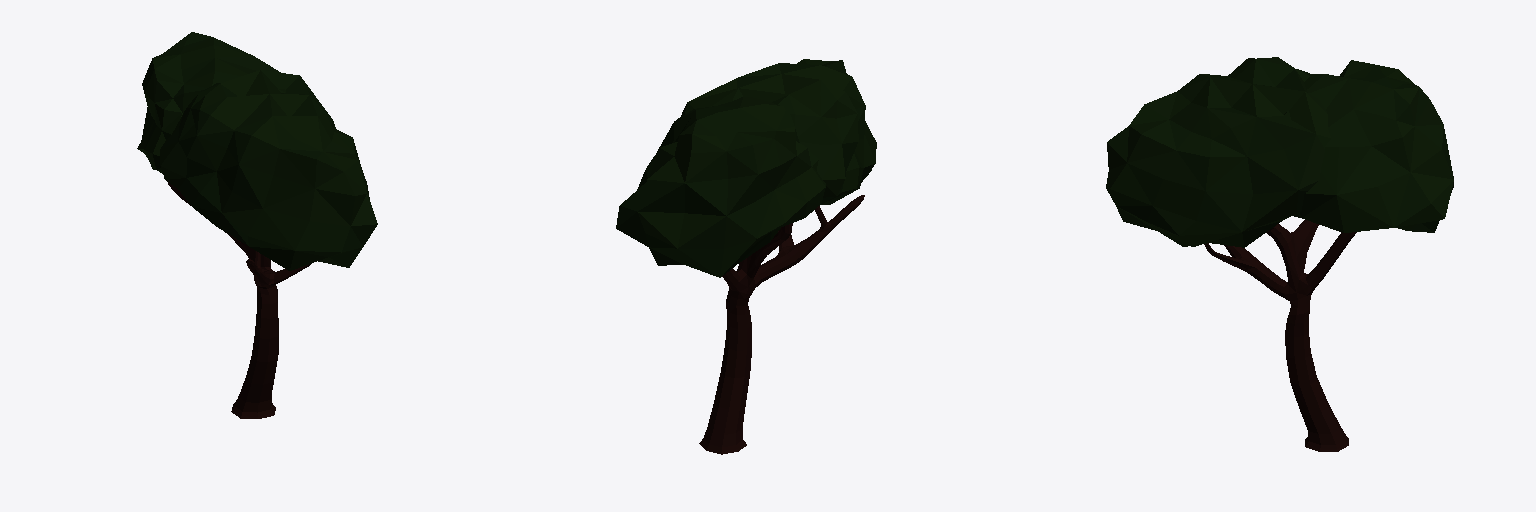
File: CommonTree_5.obj
3 views of the same model, side by side, from view 1: azimuth 30°, elevation 25°; view 2: azimuth 150°, elevation 25°; view 3: azimuth 270°, elevation 25° (orthographic).
Visible parts, largest first — view 1: CommonTree_5_Cube.014; view 2: CommonTree_5_Cube.014; view 3: CommonTree_5_Cube.014.
Boxes of the visible parts, x1=… form: CommonTree_5_Cube.014: x1=137, y1=32, x2=377, y2=418; CommonTree_5_Cube.014: x1=616, y1=59, x2=876, y2=454; CommonTree_5_Cube.014: x1=1106, y1=57, x2=1453, y2=451.
Size of the model in its own units: 1.29 by 2.53 by 2.25.